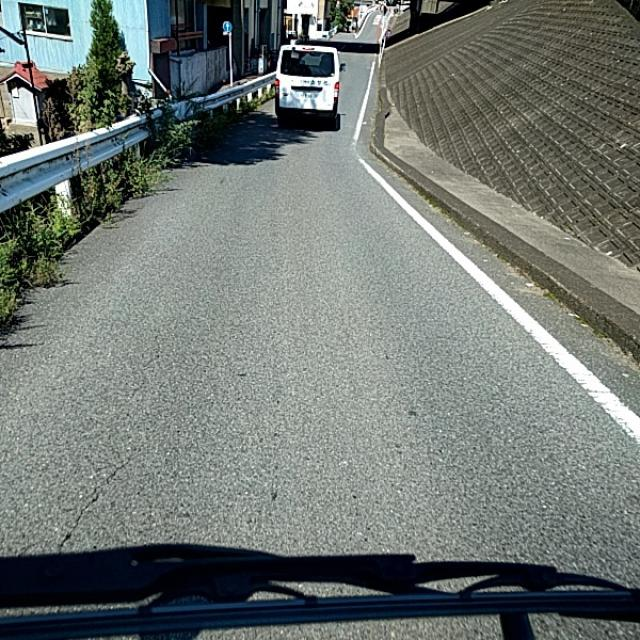pothole: (38, 369, 168, 480)
